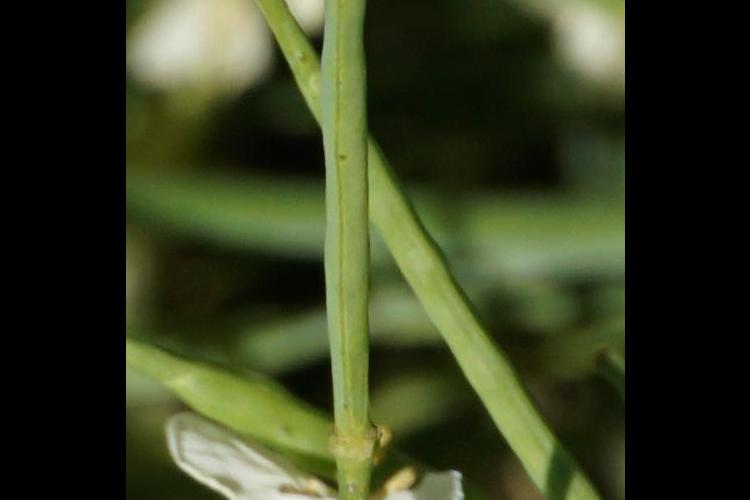white: (152, 377, 479, 500)
